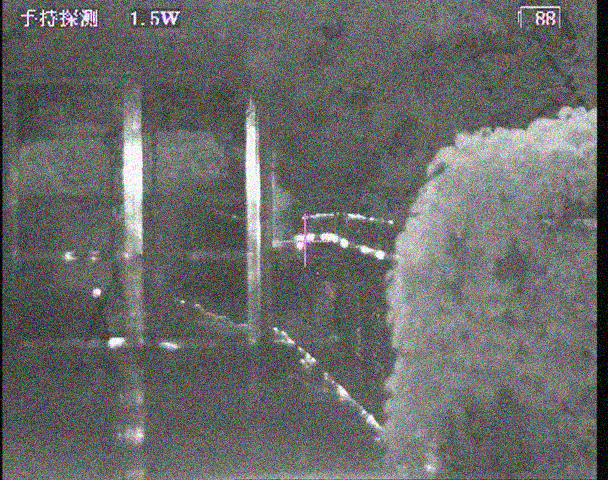my: (91, 287, 102, 299)
